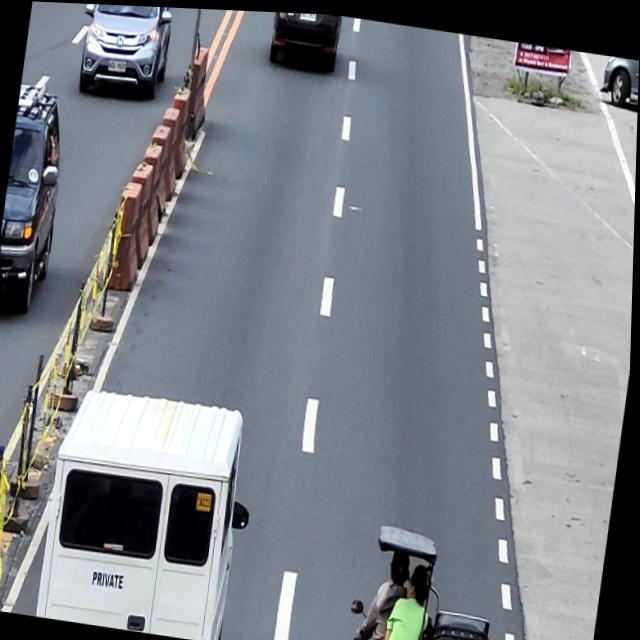Car: (35, 380, 267, 640), (0, 82, 73, 318), (75, 3, 177, 101), (269, 9, 343, 74), (599, 49, 639, 106)
License-Plate: (107, 57, 126, 71), (299, 10, 316, 18)
Tricycle: (349, 518, 512, 640)
